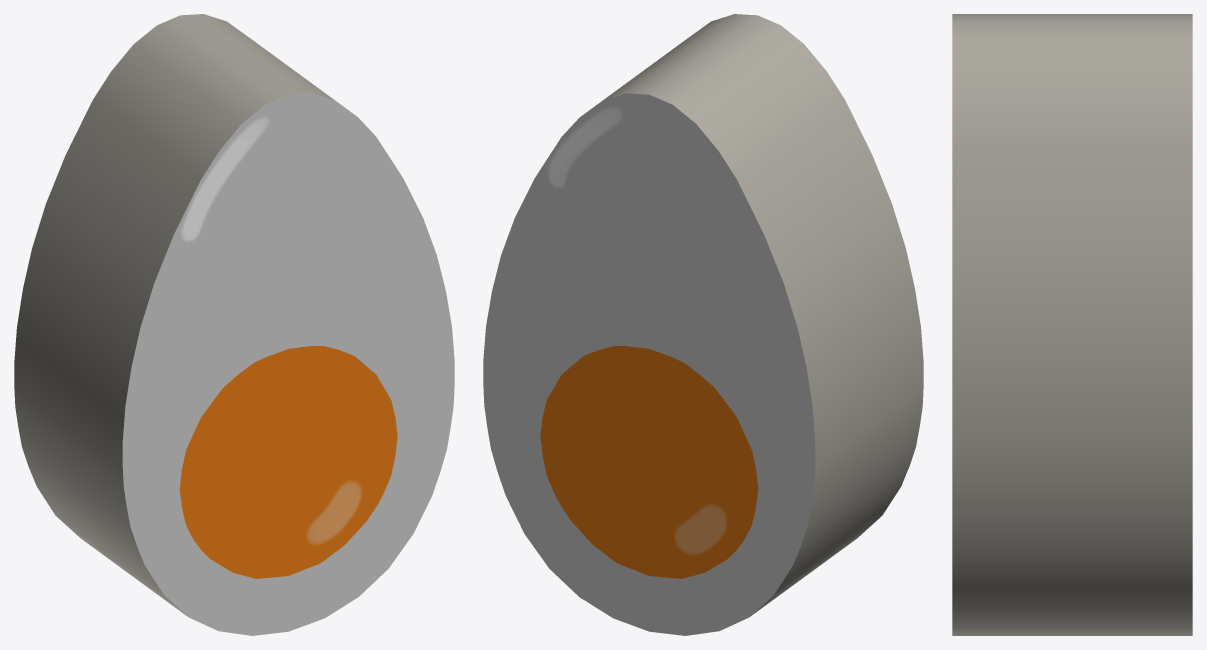
Rendered from mesh_Egg_v1.0.fbx.
The picture shows the model from 3 angles, left to right: view 1: azimuth 30°, elevation 25°; view 2: azimuth 150°, elevation 25°; view 3: azimuth 270°, elevation 25°; orthographic projection. The views are drawn at different scales.
Visible parts, largest first — view 1: pCube34; view 2: pCube34; view 3: pCube34.
Part boxes in pixels (left/top/right/bottom): pCube34: left=14, top=14, right=454, bottom=635; pCube34: left=483, top=14, right=923, bottom=635; pCube34: left=952, top=14, right=1192, bottom=635.
Size of the model in its own units: 51.45 by 79.49 by 29.08.
